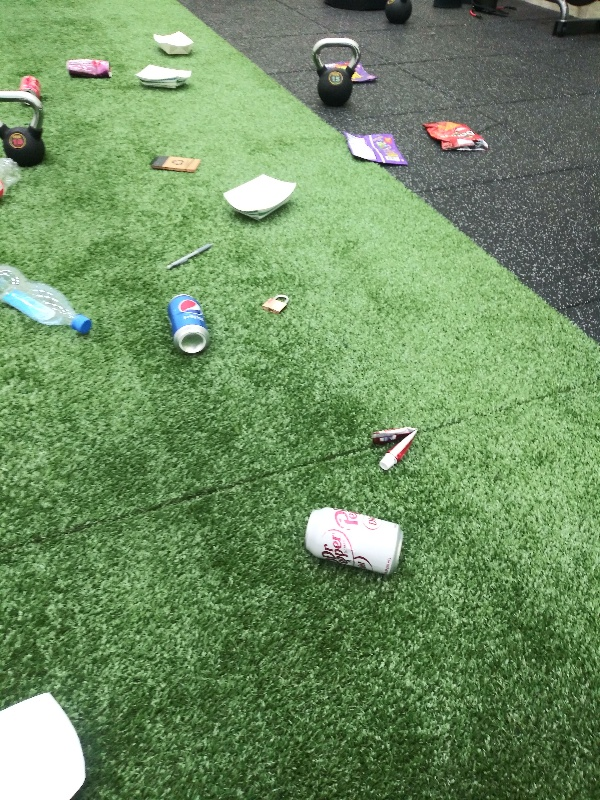bag: (341, 123, 409, 171), (421, 116, 491, 157), (324, 55, 382, 87)
bottle: (1, 261, 100, 336)
can: (303, 503, 408, 581), (165, 289, 210, 357), (62, 54, 112, 82), (19, 68, 43, 105)
plate: (1, 683, 91, 797), (220, 170, 297, 228), (136, 61, 194, 95), (148, 25, 200, 60)
